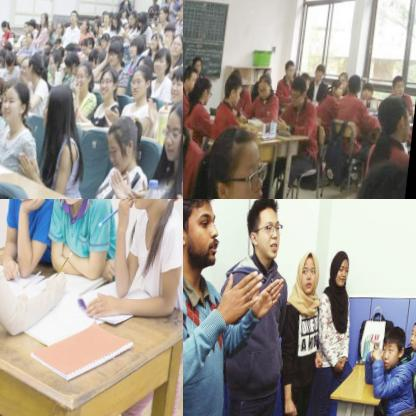head: (206, 124, 278, 199), (183, 199, 226, 276), (245, 199, 287, 260), (357, 156, 415, 199), (108, 116, 147, 171), (382, 90, 416, 142), (43, 82, 78, 130), (381, 323, 408, 368), (297, 249, 324, 293), (164, 99, 183, 159), (4, 82, 31, 124), (328, 248, 354, 287), (130, 63, 155, 96), (98, 65, 122, 97), (228, 71, 249, 105), (196, 76, 220, 104), (154, 45, 175, 75), (75, 62, 95, 92), (231, 64, 250, 92), (294, 73, 311, 104), (27, 52, 47, 78), (261, 71, 279, 98), (136, 49, 156, 73), (20, 55, 38, 81), (171, 63, 183, 102), (395, 73, 413, 99), (109, 40, 127, 64), (187, 64, 203, 90), (128, 35, 146, 57), (66, 50, 82, 74), (150, 30, 166, 52), (351, 72, 367, 94), (302, 67, 316, 92), (96, 50, 112, 70), (50, 48, 63, 72), (6, 49, 20, 71), (163, 21, 177, 43), (336, 76, 350, 98), (288, 55, 301, 77), (365, 78, 378, 100), (0, 73, 8, 108), (341, 67, 354, 88), (171, 33, 183, 54), (266, 63, 278, 83), (194, 53, 207, 71), (410, 312, 416, 350), (318, 61, 329, 81), (89, 46, 100, 64), (100, 32, 112, 48), (112, 10, 122, 28), (138, 9, 148, 27), (159, 4, 170, 20), (128, 8, 138, 25), (0, 17, 11, 32), (39, 10, 50, 25), (80, 36, 90, 52), (70, 8, 79, 23), (87, 34, 96, 49), (176, 1, 183, 20), (26, 30, 35, 44), (28, 16, 37, 30), (94, 17, 103, 31), (5, 38, 15, 50), (56, 18, 65, 31), (96, 36, 105, 49), (47, 18, 56, 30), (103, 11, 112, 23), (21, 35, 29, 48), (122, 20, 131, 31), (23, 20, 31, 31), (0, 51, 5, 68), (82, 17, 89, 28), (121, 7, 128, 17), (0, 40, 2, 53)
